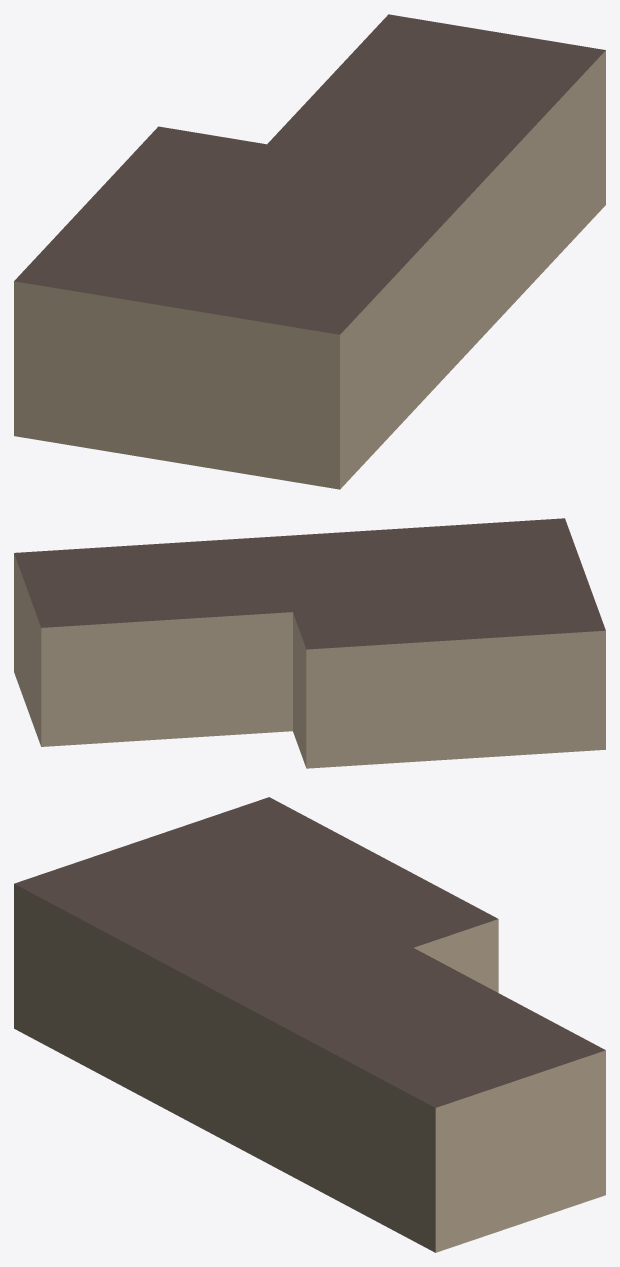
The picture shows the model from 3 angles, top to bottom: view 1: azimuth 30°, elevation 25°; view 2: azimuth 150°, elevation 25°; view 3: azimuth 270°, elevation 25°; orthographic projection. The views are drawn at different scales.
Visible parts, largest first — view 1: HP-w160965774; view 2: HP-w160965774; view 3: HP-w160965774.
Boxes of the visible parts, left/top/right/bottom form: HP-w160965774: left=14, top=14, right=605, bottom=489; HP-w160965774: left=14, top=518, right=605, bottom=768; HP-w160965774: left=14, top=797, right=605, bottom=1252.
Size of the model in its own units: 41.41 by 9 by 33.32.
